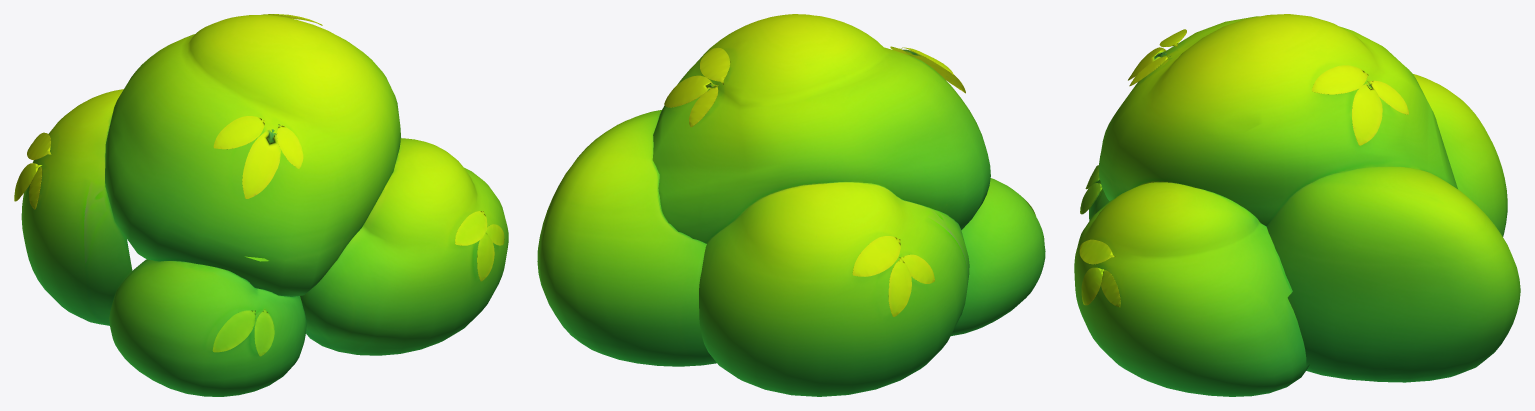
The model's file is rounded-bush.glb.
3 views of the same model, side by side, from view 1: azimuth 30°, elevation 25°; view 2: azimuth 150°, elevation 25°; view 3: azimuth 270°, elevation 25° (orthographic). The views are drawn at different scales.
Visible parts, largest first — view 1: tripo_4594eb9f_e99a_4efe_95b6_19e0eb271808; view 2: tripo_4594eb9f_e99a_4efe_95b6_19e0eb271808; view 3: tripo_4594eb9f_e99a_4efe_95b6_19e0eb271808.
Boxes of the visible parts, left/top/right/bottom form: tripo_4594eb9f_e99a_4efe_95b6_19e0eb271808: left=14, top=14, right=508, bottom=396; tripo_4594eb9f_e99a_4efe_95b6_19e0eb271808: left=537, top=14, right=1045, bottom=396; tripo_4594eb9f_e99a_4efe_95b6_19e0eb271808: left=1074, top=14, right=1520, bottom=396.
Bounding box in the file's own units: 0.9995 × 0.7173 × 0.9897.
1 material, 1 textured.
